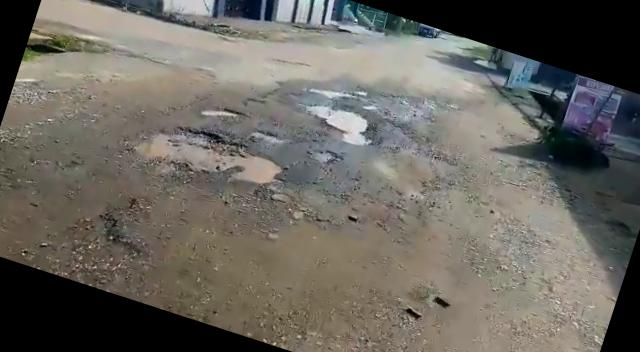pothole: (126, 108, 292, 203), (298, 96, 377, 150), (204, 100, 246, 127), (300, 142, 340, 168), (311, 82, 354, 105), (251, 127, 289, 148)
